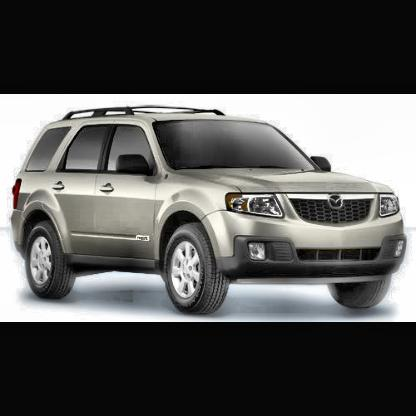Mazda Tribute SUV 2011: (12, 107, 409, 315)
